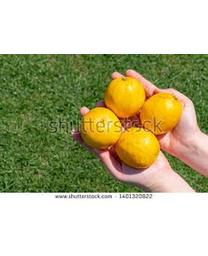lemon: (141, 91, 185, 135), (117, 127, 161, 171), (82, 108, 118, 149), (106, 78, 143, 116)
